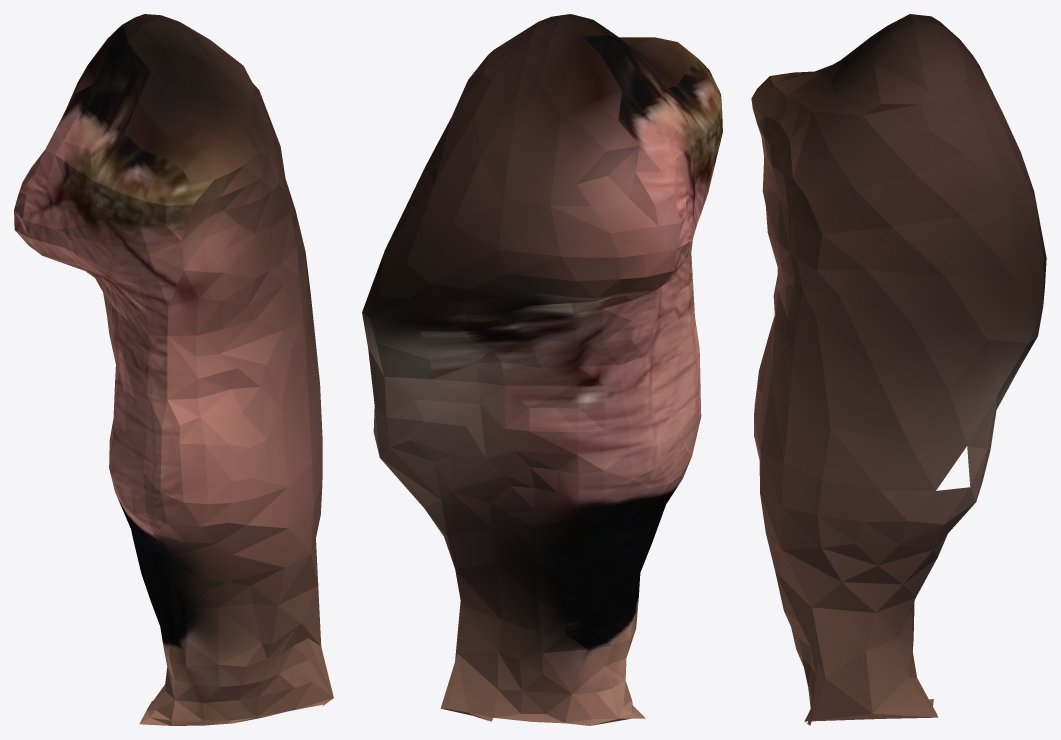
3 renders of one model, left to right at view 1: azimuth 30°, elevation 25°; view 2: azimuth 150°, elevation 25°; view 3: azimuth 270°, elevation 25°, orthographic. The views are drawn at different scales.
Bounding box in the file's own units: 0.542 × 1.25 × 0.5144.
1 material, 1 textured.
